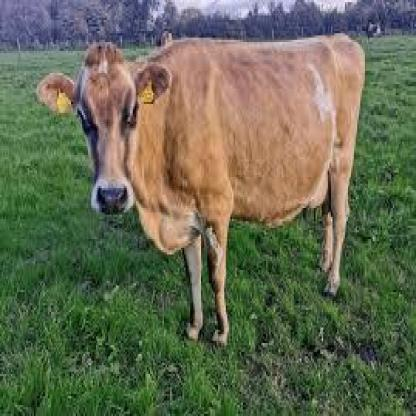cow: (37, 32, 367, 346)
